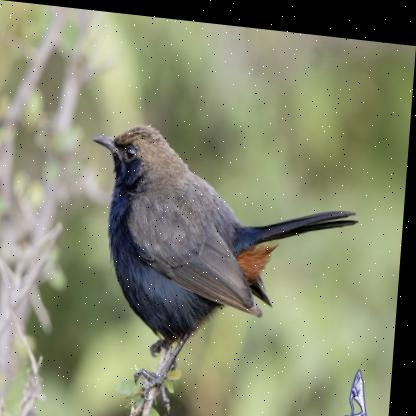Burung: (77, 115, 366, 415)
